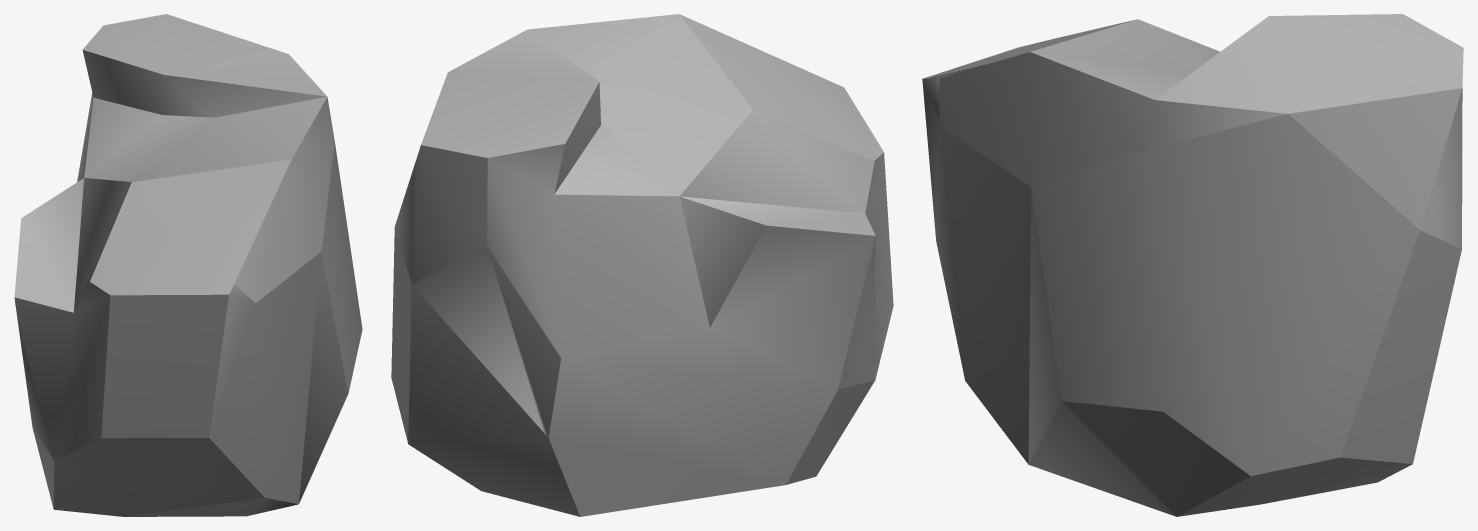
The model's file is SK_Rock_010Collider.FBX.
3 views of the same model, side by side, from view 1: azimuth 30°, elevation 25°; view 2: azimuth 150°, elevation 25°; view 3: azimuth 270°, elevation 25° (orthographic). The views are drawn at different scales.
Visible parts, largest first — view 1: SK_Rock_010Collider; view 2: SK_Rock_010Collider; view 3: SK_Rock_010Collider.
Part boxes in pixels (bbox=[...]): SK_Rock_010Collider: bbox=[14, 14, 362, 516]; SK_Rock_010Collider: bbox=[391, 14, 893, 516]; SK_Rock_010Collider: bbox=[922, 14, 1463, 516].
Bounding box in the file's own units: 159 × 147 × 168.
1 material, 1 textured.
